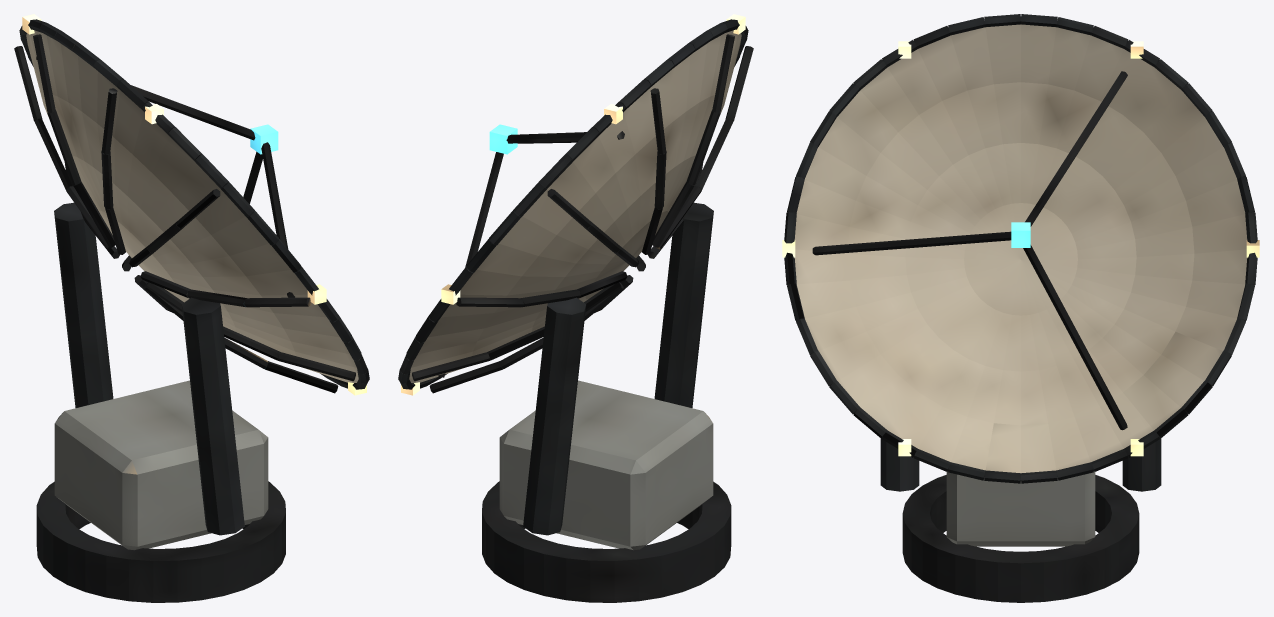
The model's file is mining_dish.glb.
The picture shows the model from 3 angles, left to right: view 1: azimuth 30°, elevation 25°; view 2: azimuth 150°, elevation 25°; view 3: azimuth 270°, elevation 25°; orthographic projection. The views are drawn at different scales.
Visible parts, largest first — view 1: dish_yaw, dish_pitch; view 2: dish_yaw, dish_pitch; view 3: dish_pitch, dish_yaw.
Boxes of the visible parts, x1,y1,x2,y2 form: dish_yaw: (36,202,285,602); dish_pitch: (14,14,369,395); dish_yaw: (482,202,731,602); dish_pitch: (398,14,753,395); dish_pitch: (782,14,1259,483); dish_yaw: (880,438,1161,602).
Size of the model in its own units: 329 by 628 by 545.
2 materials, 2 textured.
